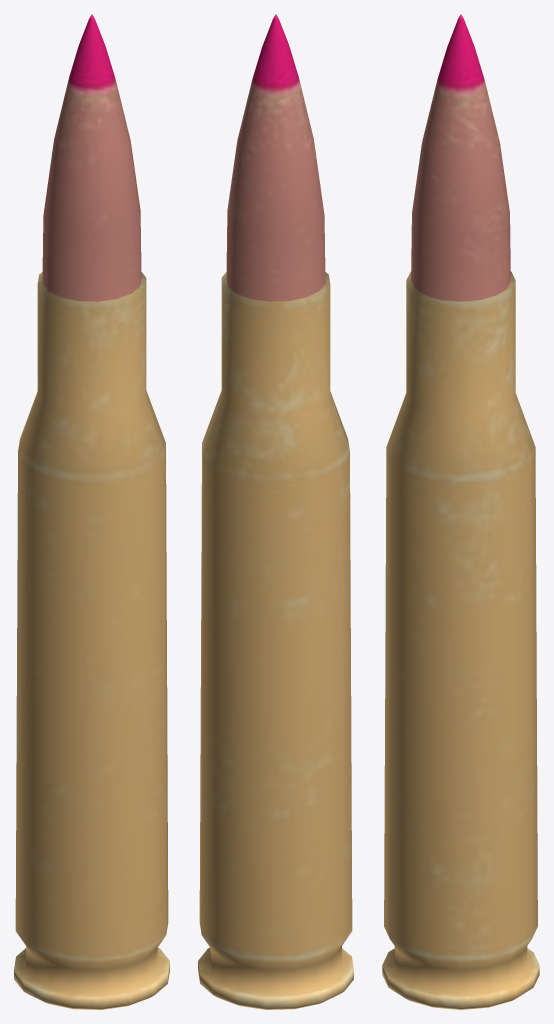
The model's file is round.glb.
3 renders of one model, left to right at view 1: azimuth 30°, elevation 25°; view 2: azimuth 150°, elevation 25°; view 3: azimuth 270°, elevation 25°, orthographic.
Parts seen in each view (by area): view 1: body; view 2: body; view 3: body.
Part boxes in pixels (bbox=[...]): body: bbox=[14, 14, 169, 1009]; body: bbox=[198, 14, 353, 1009]; body: bbox=[382, 14, 539, 1009].
Size of the model in its own units: 0.0204 by 0.138 by 0.0204.
1 material, 1 textured.
